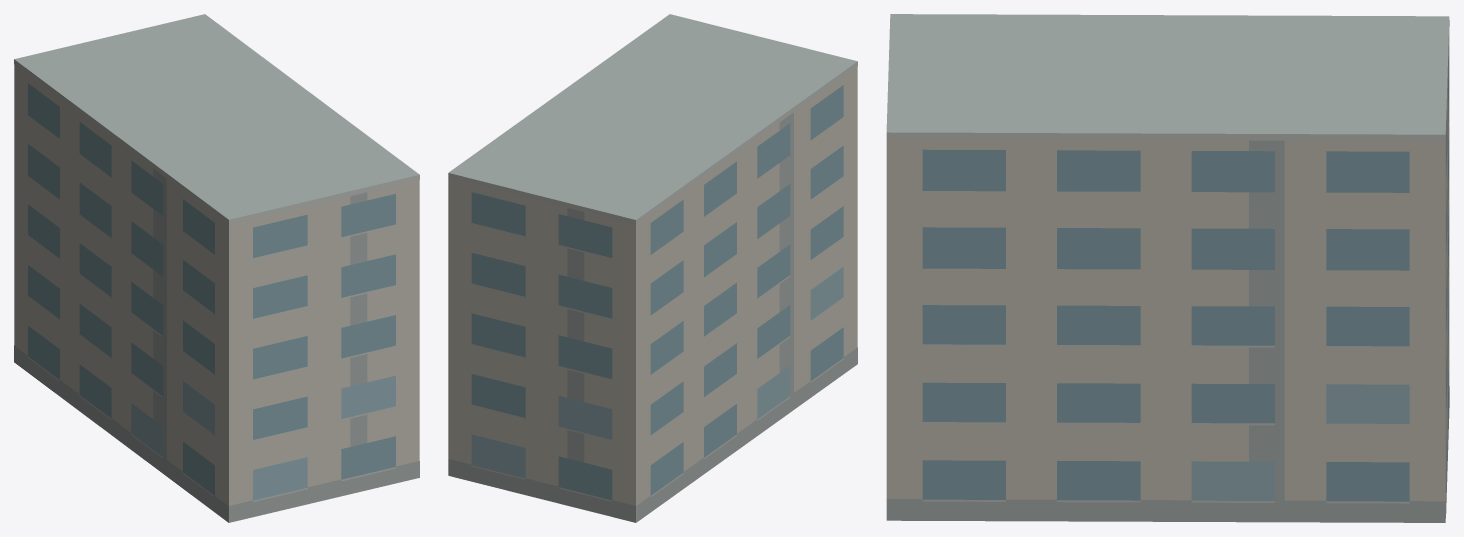
Rendered from survey-upis-32959988.glb.
3 renders of one model, left to right at view 1: azimuth 30°, elevation 25°; view 2: azimuth 150°, elevation 25°; view 3: azimuth 270°, elevation 25°, orthographic. The views are drawn at different scales.
Visible parts, largest first — view 1: survey-upis-32959988.tmp; view 2: survey-upis-32959988.tmp; view 3: survey-upis-32959988.tmp.
Boxes of the visible parts, x1,y1,x2,y2 form: survey-upis-32959988.tmp: (14, 14, 419, 522); survey-upis-32959988.tmp: (448, 14, 857, 522); survey-upis-32959988.tmp: (886, 14, 1449, 522).
Bounding box in the file's own units: 9.57 × 14.35 × 18.87.
